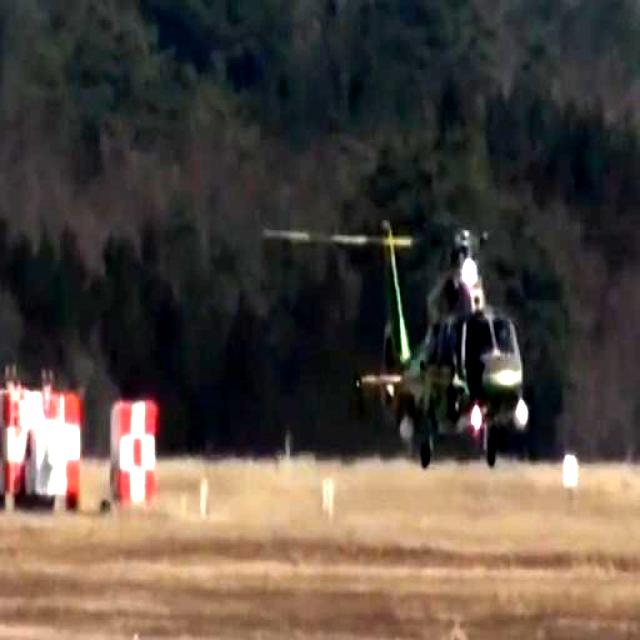drone: (344, 188, 550, 495)
